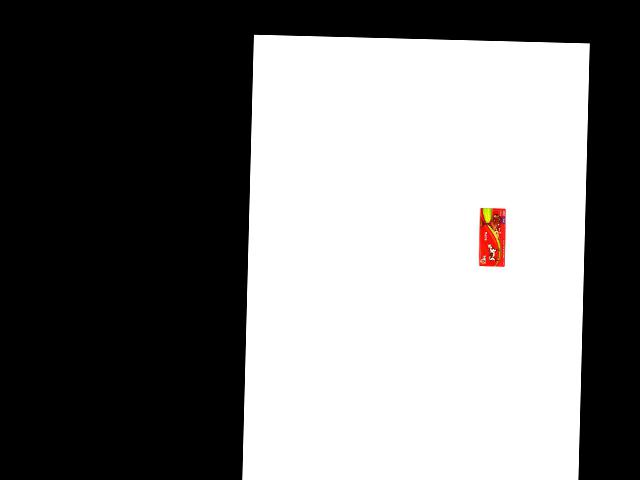chocolate: (476, 206, 511, 270)
